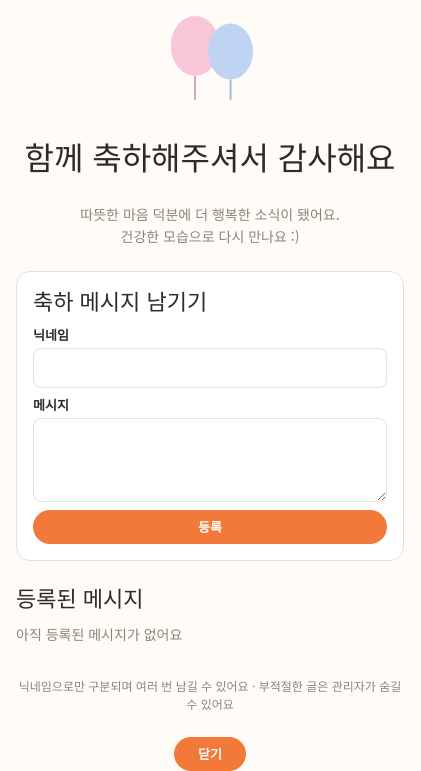
Test: ThankYouScreen › posts a trimmed entry, refreshes the list and clears the message
expect the text "아직 등록된 메시지가 없어요" is shown: met, box 16,624 -> 182,644
In the field labelled "닉네임": coordinates (210, 368) 33,348 -> 387,388, type "  이모 "
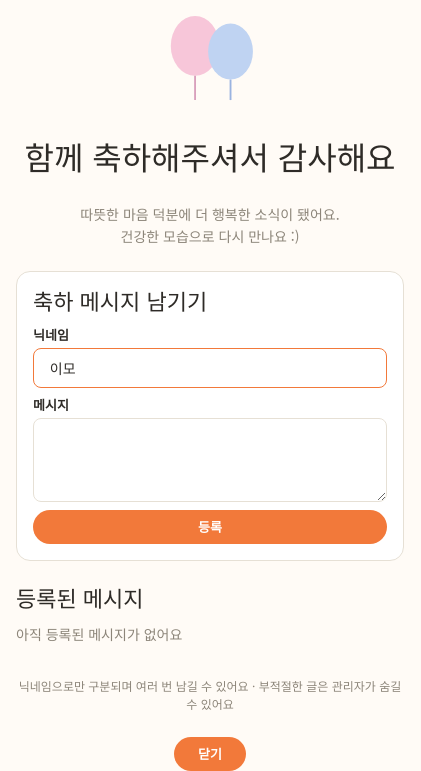
In the text box labelled "메시지": coordinates (210, 460) 33,418 -> 387,502, type " 축하해요 "
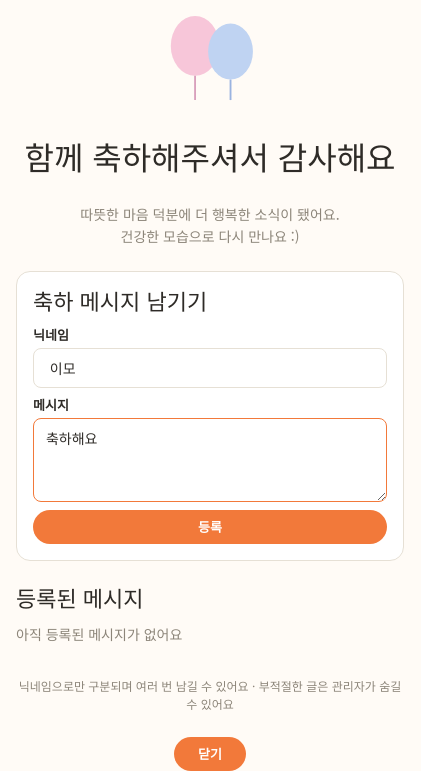
Click the button "등록": coordinates (210, 527) 33,510 -> 387,544
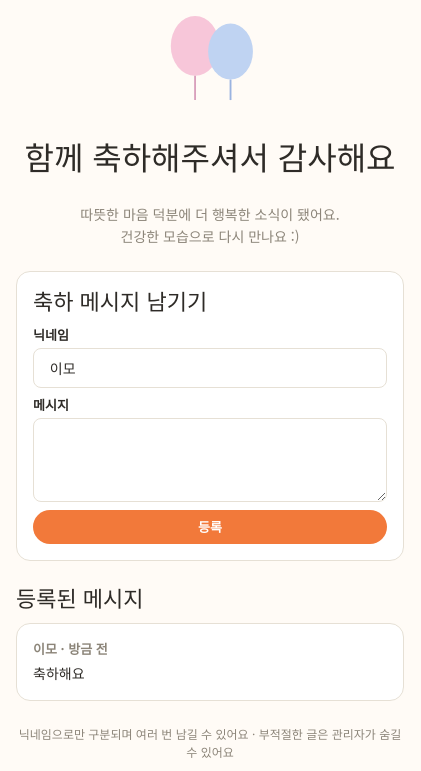
expect the text "이모 · 방금 전" is shown: met, box 33,639 -> 108,658
expect the text box labelled "메시지" is empty: met, box 33,418 -> 387,502
